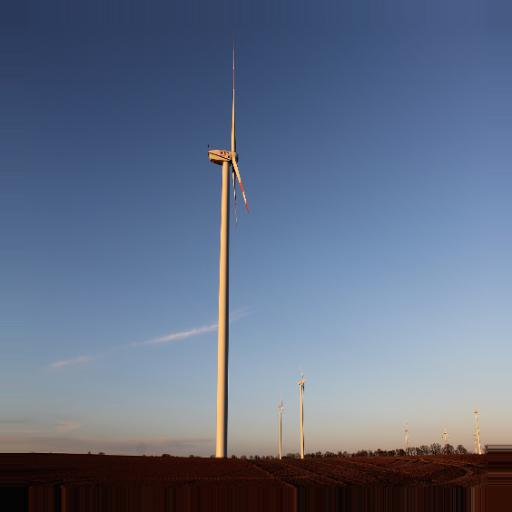wind turbine: (202, 38, 253, 455)
